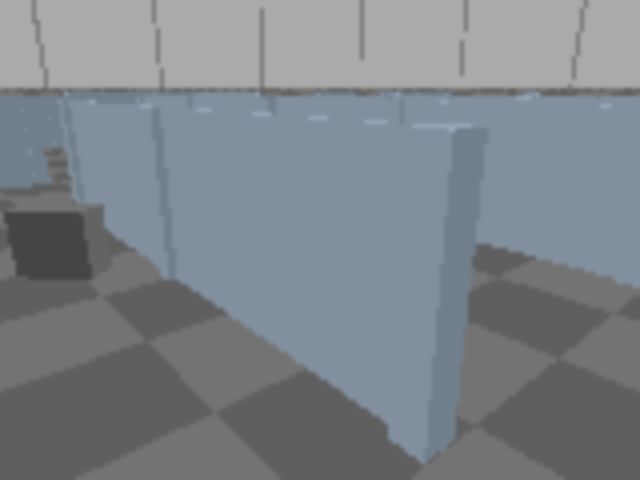obstacle: (3, 202, 112, 280)
